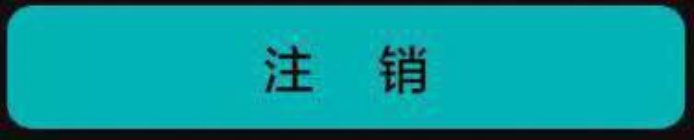Button: (1, 1, 693, 139)
